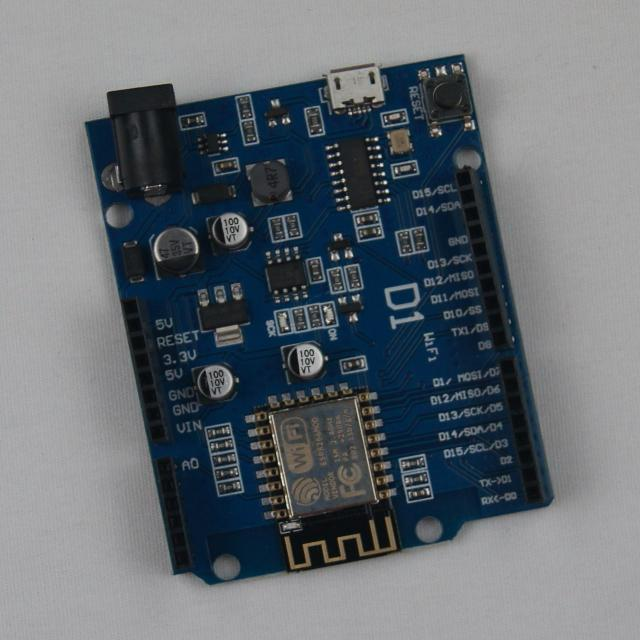Arduino Uno WiFi Shield: (87, 56, 554, 584)
